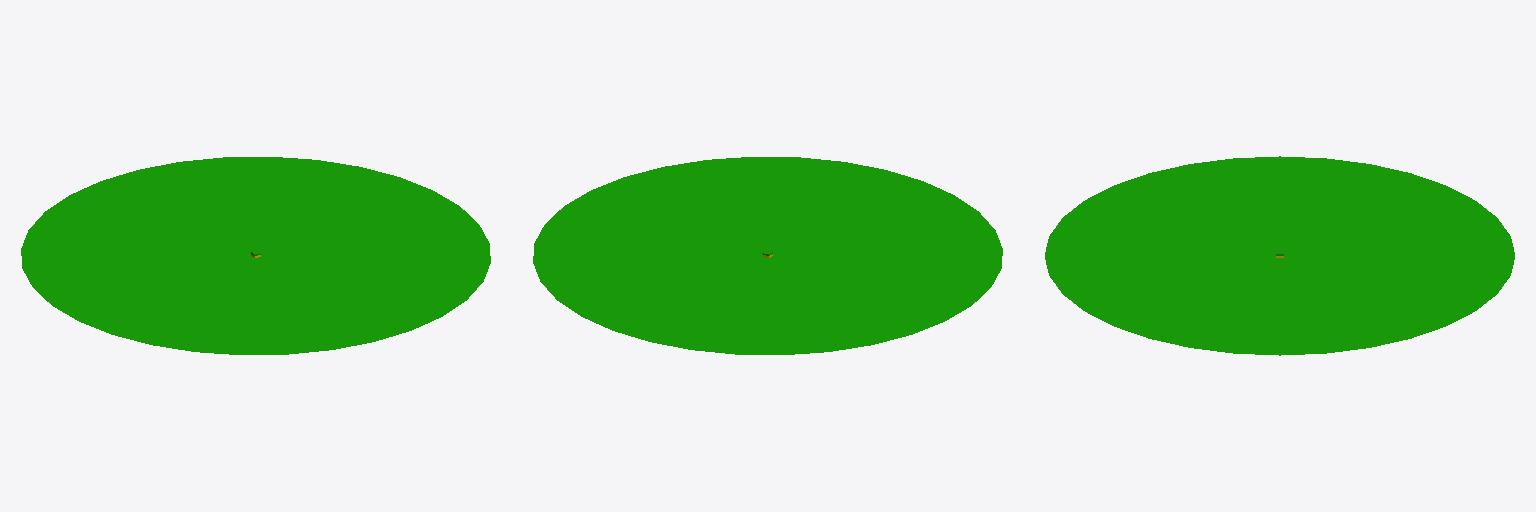
File: platform.obj
3 renders of one model, left to right at view 1: azimuth 30°, elevation 25°; view 2: azimuth 150°, elevation 25°; view 3: azimuth 270°, elevation 25°, orthographic.
Parts seen in each view (by area): view 1: Circle; view 2: Circle; view 3: Circle.
Boxes of the visible parts, x1=… form: Circle: x1=21, y1=157, x2=490, y2=354; Circle: x1=533, y1=157, x2=1002, y2=354; Circle: x1=1045, y1=156, x2=1514, y2=355.
Size of the model in its own units: 121 by 2 by 121.